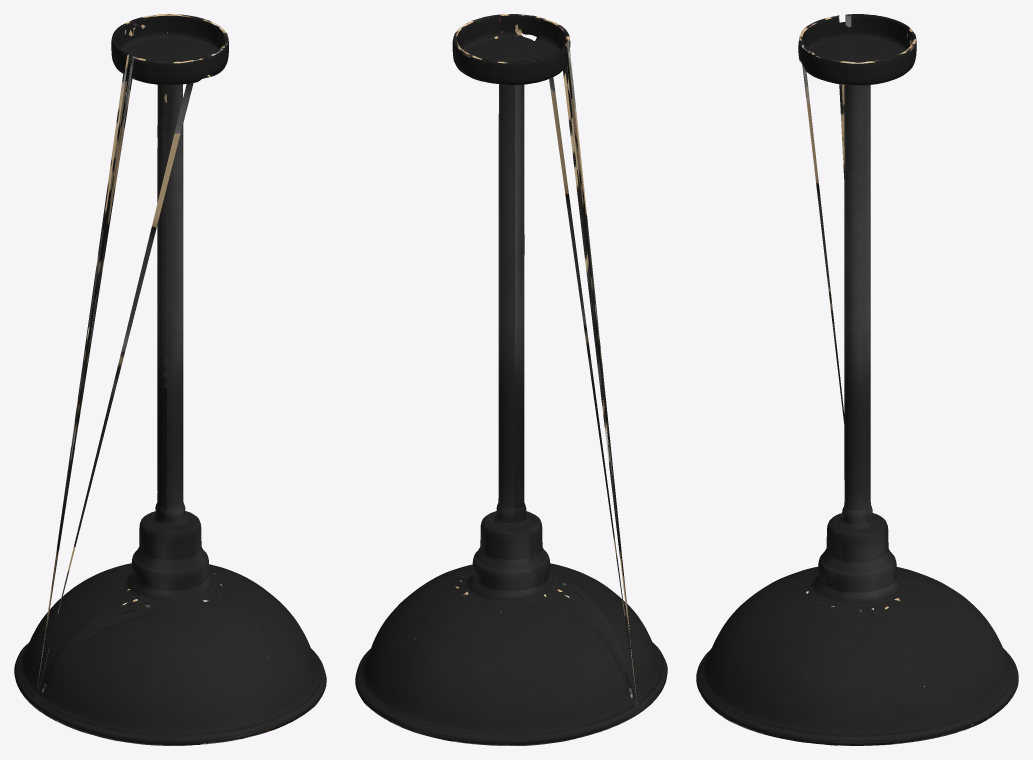
File: interrogation lamp.glb
The picture shows the model from 3 angles, left to right: view 1: azimuth 30°, elevation 25°; view 2: azimuth 150°, elevation 25°; view 3: azimuth 270°, elevation 25°; orthographic projection.
Parts seen in each view (by area): view 1: tmpe1_xe1_v.ply; view 2: tmpe1_xe1_v.ply; view 3: tmpe1_xe1_v.ply.
Part boxes in pixels (x1,y1,x2,y2): tmpe1_xe1_v.ply: (14,14,326,745); tmpe1_xe1_v.ply: (355,14,667,745); tmpe1_xe1_v.ply: (696,14,1018,745).
Bounding box in the file's own units: 0.7941 × 1.95 × 0.8336.
1 material, 1 textured.
